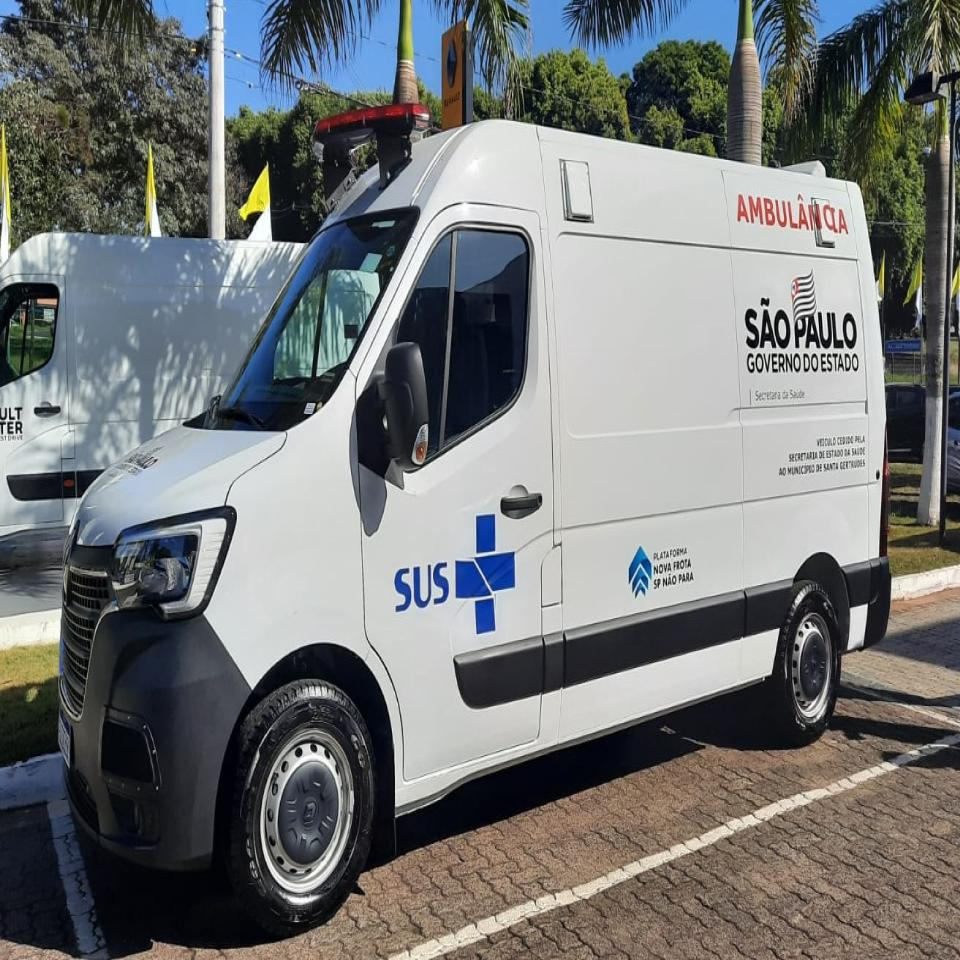bombeiro: (57, 103, 893, 939)
